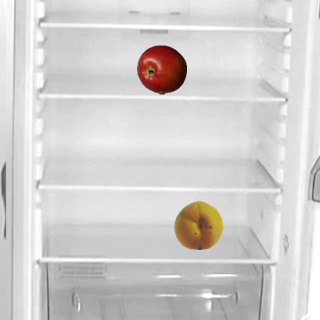Apple Braeburn: (136, 44, 186, 94)
Peach 2: (173, 199, 223, 249)
